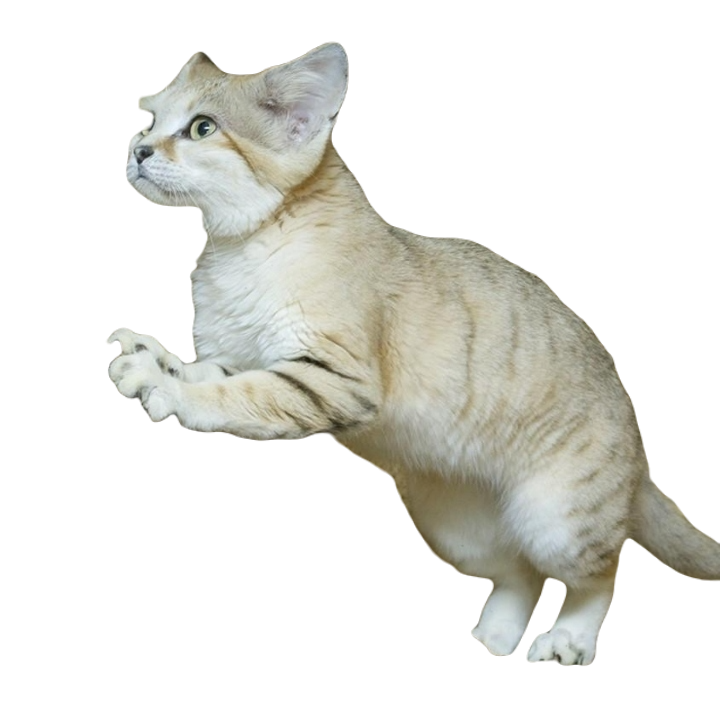Cat: (104, 27, 719, 664)
